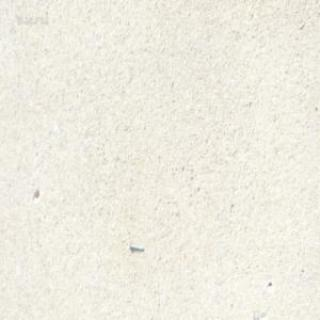Nailtrack_idkeyframe: (128, 240, 144, 251)
